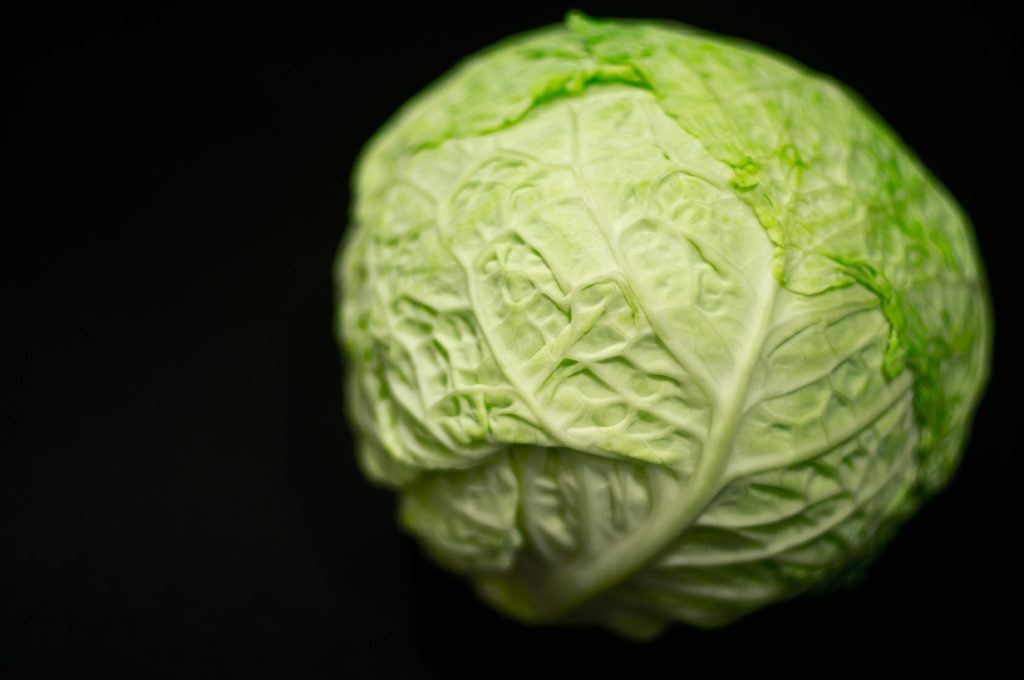Cabbage: (334, 10, 992, 639)
